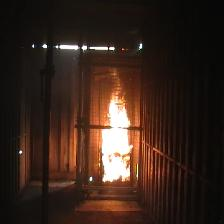fire: (102, 100, 131, 184)
